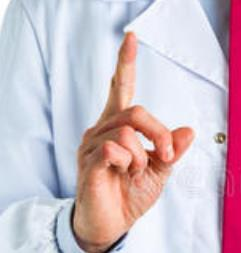up: (68, 28, 198, 240)
